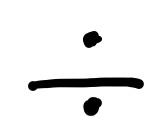div: (23, 29, 144, 117)
